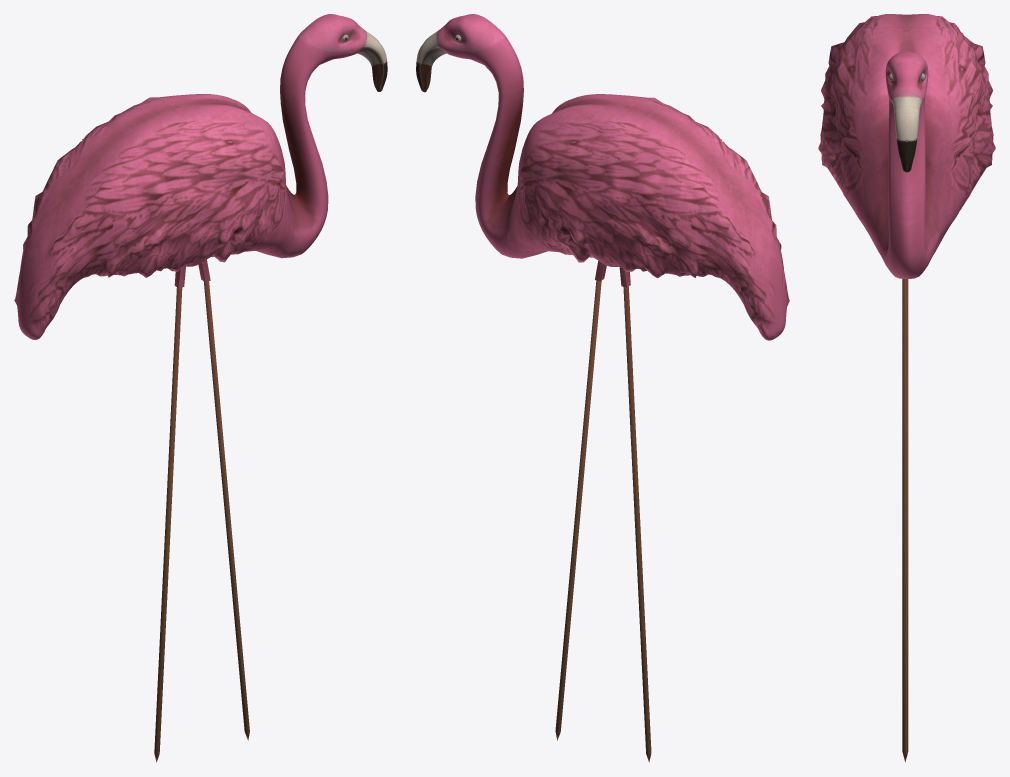
The picture shows the model from 3 angles, left to right: view 1: azimuth 30°, elevation 25°; view 2: azimuth 150°, elevation 25°; view 3: azimuth 270°, elevation 25°; orthographic projection. The views are drawn at different scales.
Parts seen in each view (by area): view 1: PinkFlamingo_Prefab (13)_0; view 2: PinkFlamingo_Prefab (13)_0; view 3: PinkFlamingo_Prefab (13)_0.
Boxes of the visible parts, <box> form: PinkFlamingo_Prefab (13)_0: <box>14,14,387,762</box>; PinkFlamingo_Prefab (13)_0: <box>416,14,789,762</box>; PinkFlamingo_Prefab (13)_0: <box>818,14,995,762</box>.
Bounding box in the file's own units: 0.6095 × 1.12 × 0.2405.
Materials: 1 (1 with a texture image).
